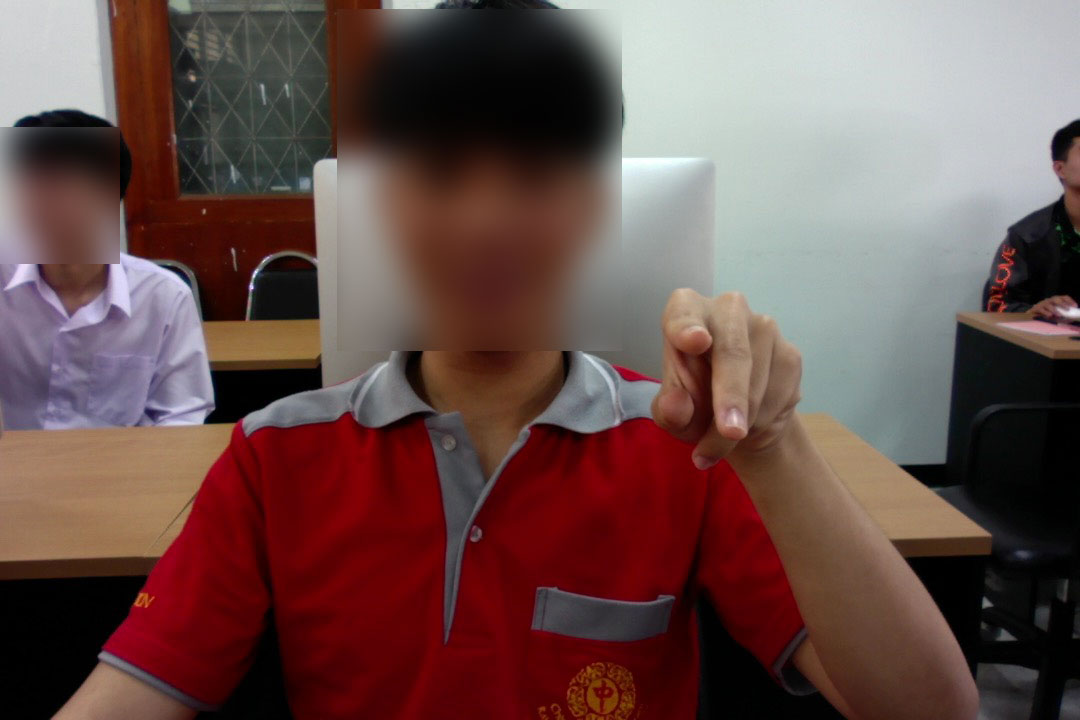por: (644, 273, 809, 474)
